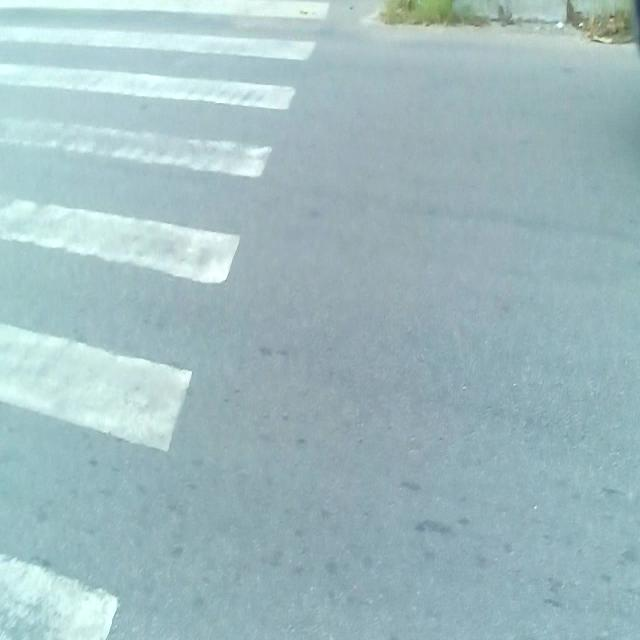crosswalk: (0, 0, 338, 640)
